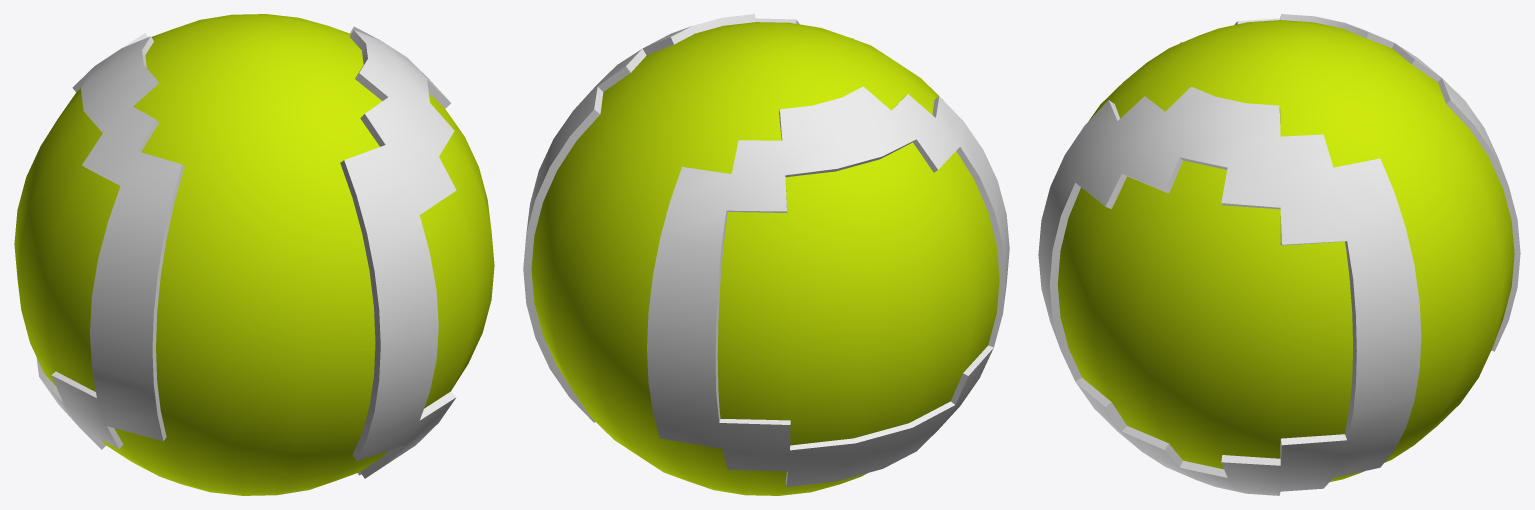
The model's file is tennisball.fbx.
The picture shows the model from 3 angles, left to right: view 1: azimuth 30°, elevation 25°; view 2: azimuth 150°, elevation 25°; view 3: azimuth 270°, elevation 25°; orthographic projection. The views are drawn at different scales.
Visible parts, largest first — view 1: pSphere1, pSphere2; view 2: pSphere1, pSphere2; view 3: pSphere1, pSphere2.
Part boxes in pixels (<box>): pSphere1: <box>14,14,494,495</box>; pSphere2: <box>36,26,456,478</box>; pSphere1: <box>531,22,999,495</box>; pSphere2: <box>523,14,1009,486</box>; pSphere1: <box>1057,20,1514,481</box>; pSphere2: <box>1038,14,1520,495</box>.
Bounding box in the file's own units: 0.6006 × 0.6006 × 0.6185.
